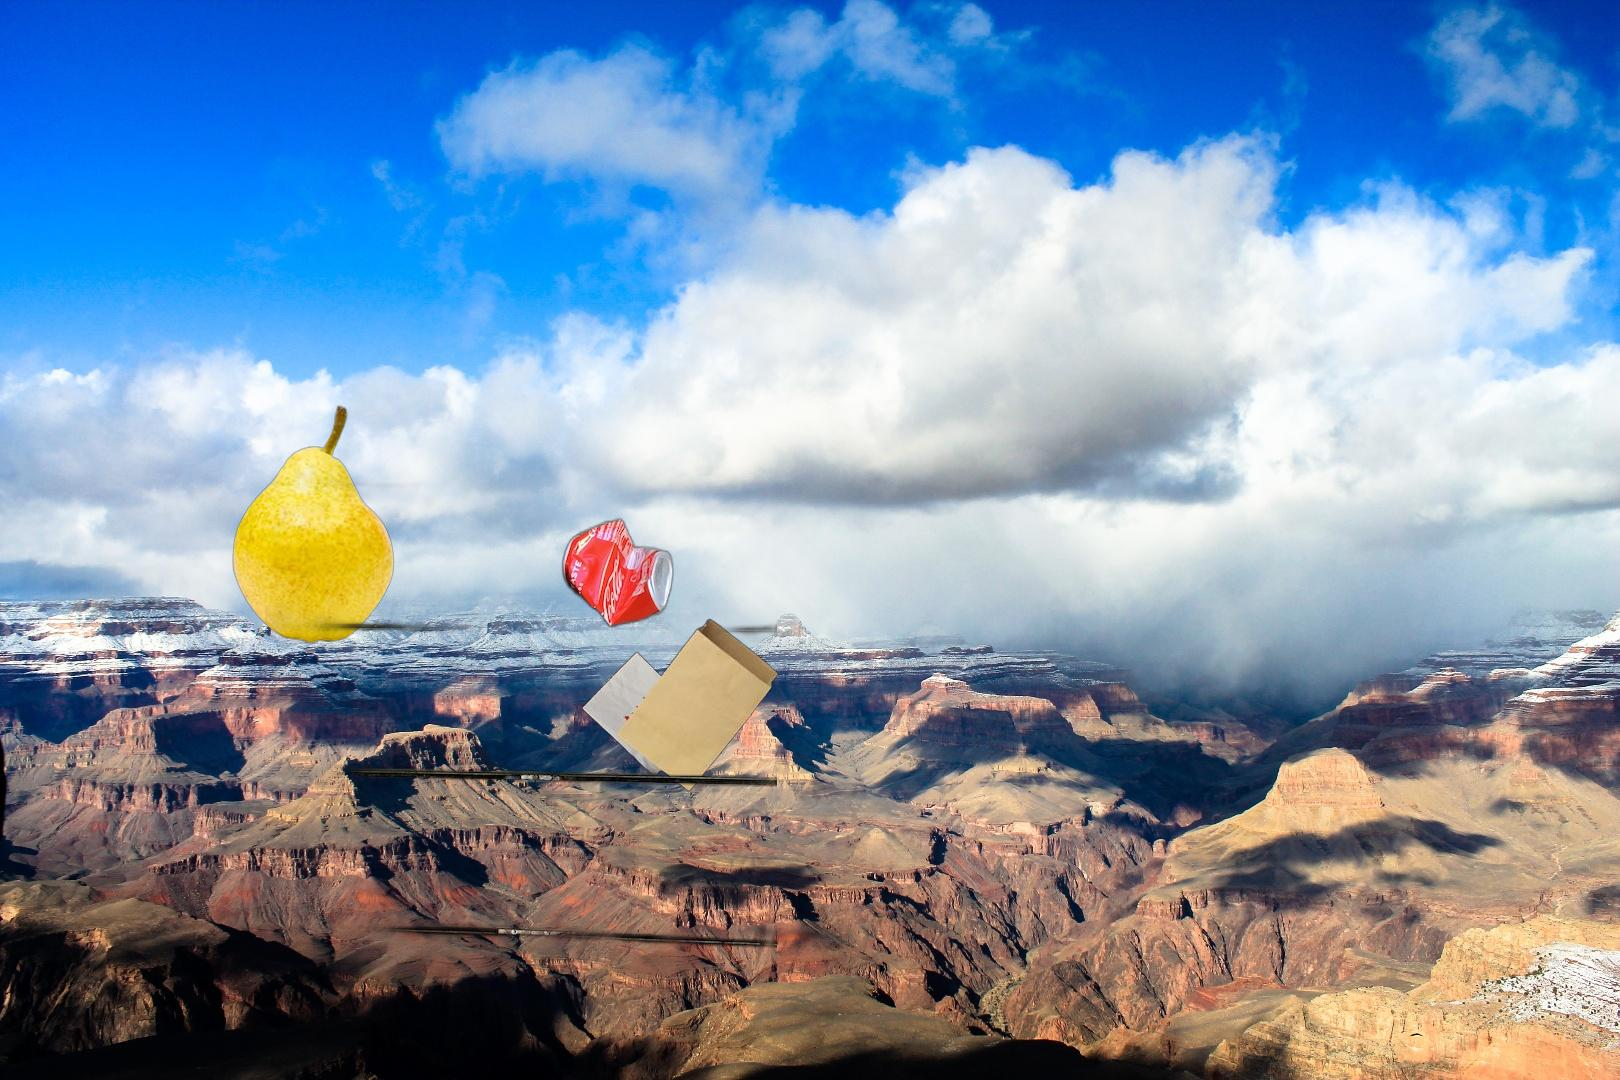biological: (230, 403, 397, 646)
metal-cans: (265, 454, 777, 1080)
paper-bag: (579, 616, 781, 792)
